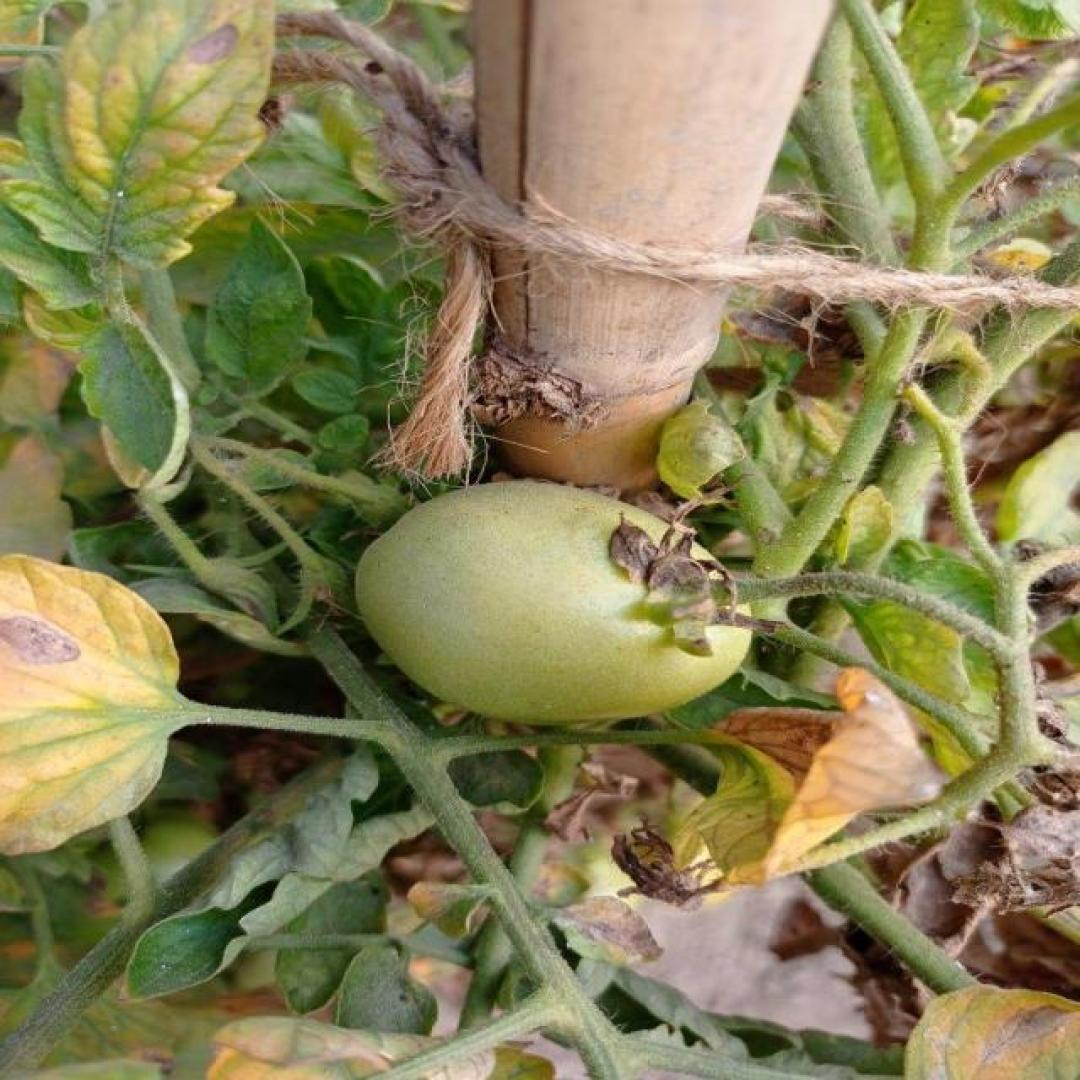mentah: (351, 479, 756, 726)
